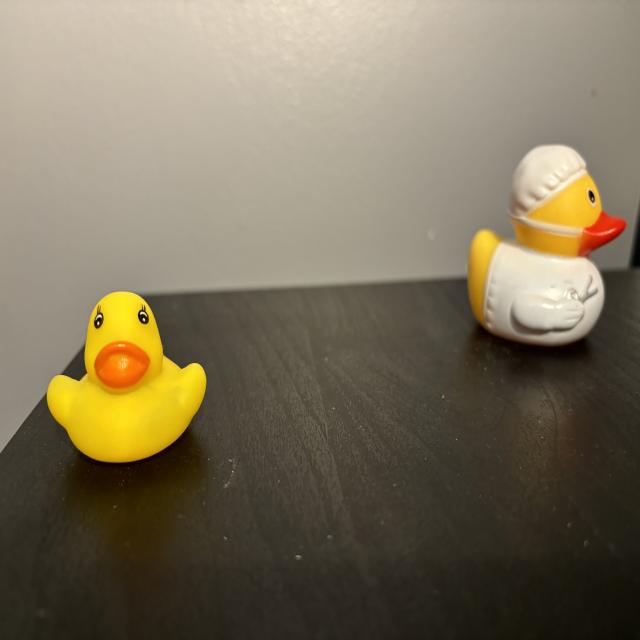duck_regular: (47, 289, 207, 464)
duck_specialty: (469, 144, 627, 346)
